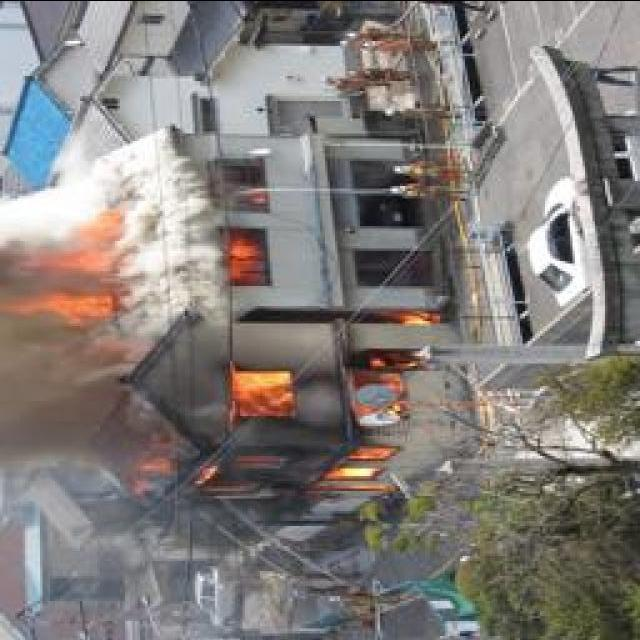Fire: (124, 302, 456, 514), (11, 199, 125, 329), (224, 185, 274, 283)
